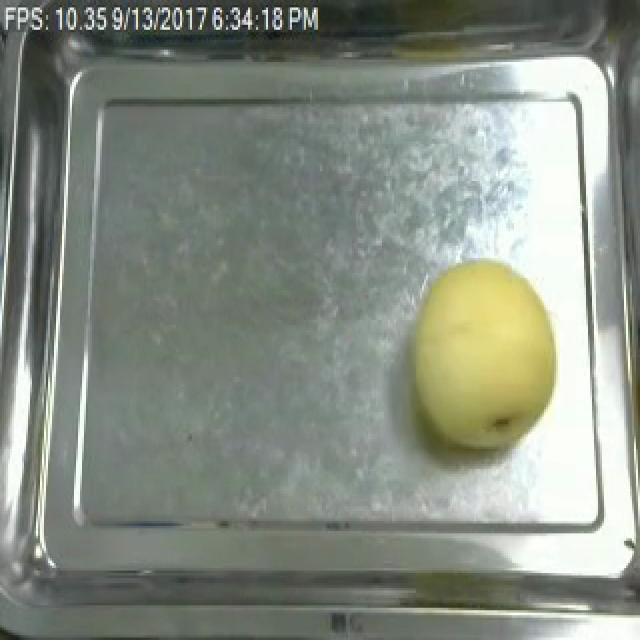Fruit: (394, 250, 572, 459)
